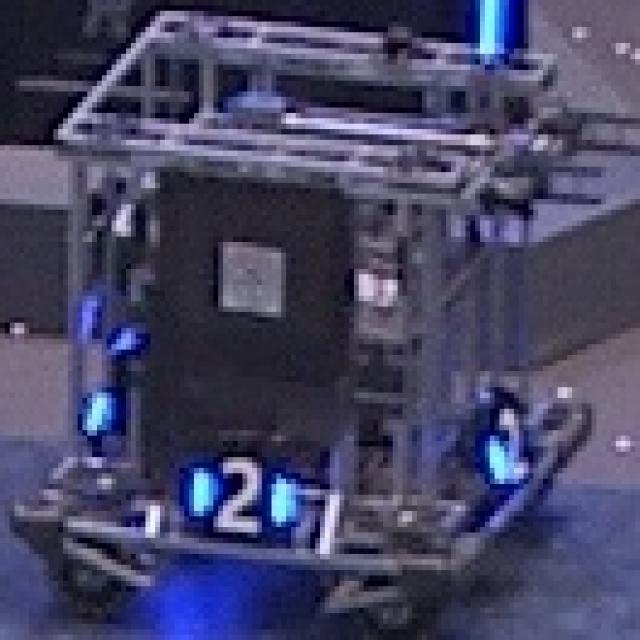B2: (184, 446, 301, 544), (470, 392, 543, 494)
